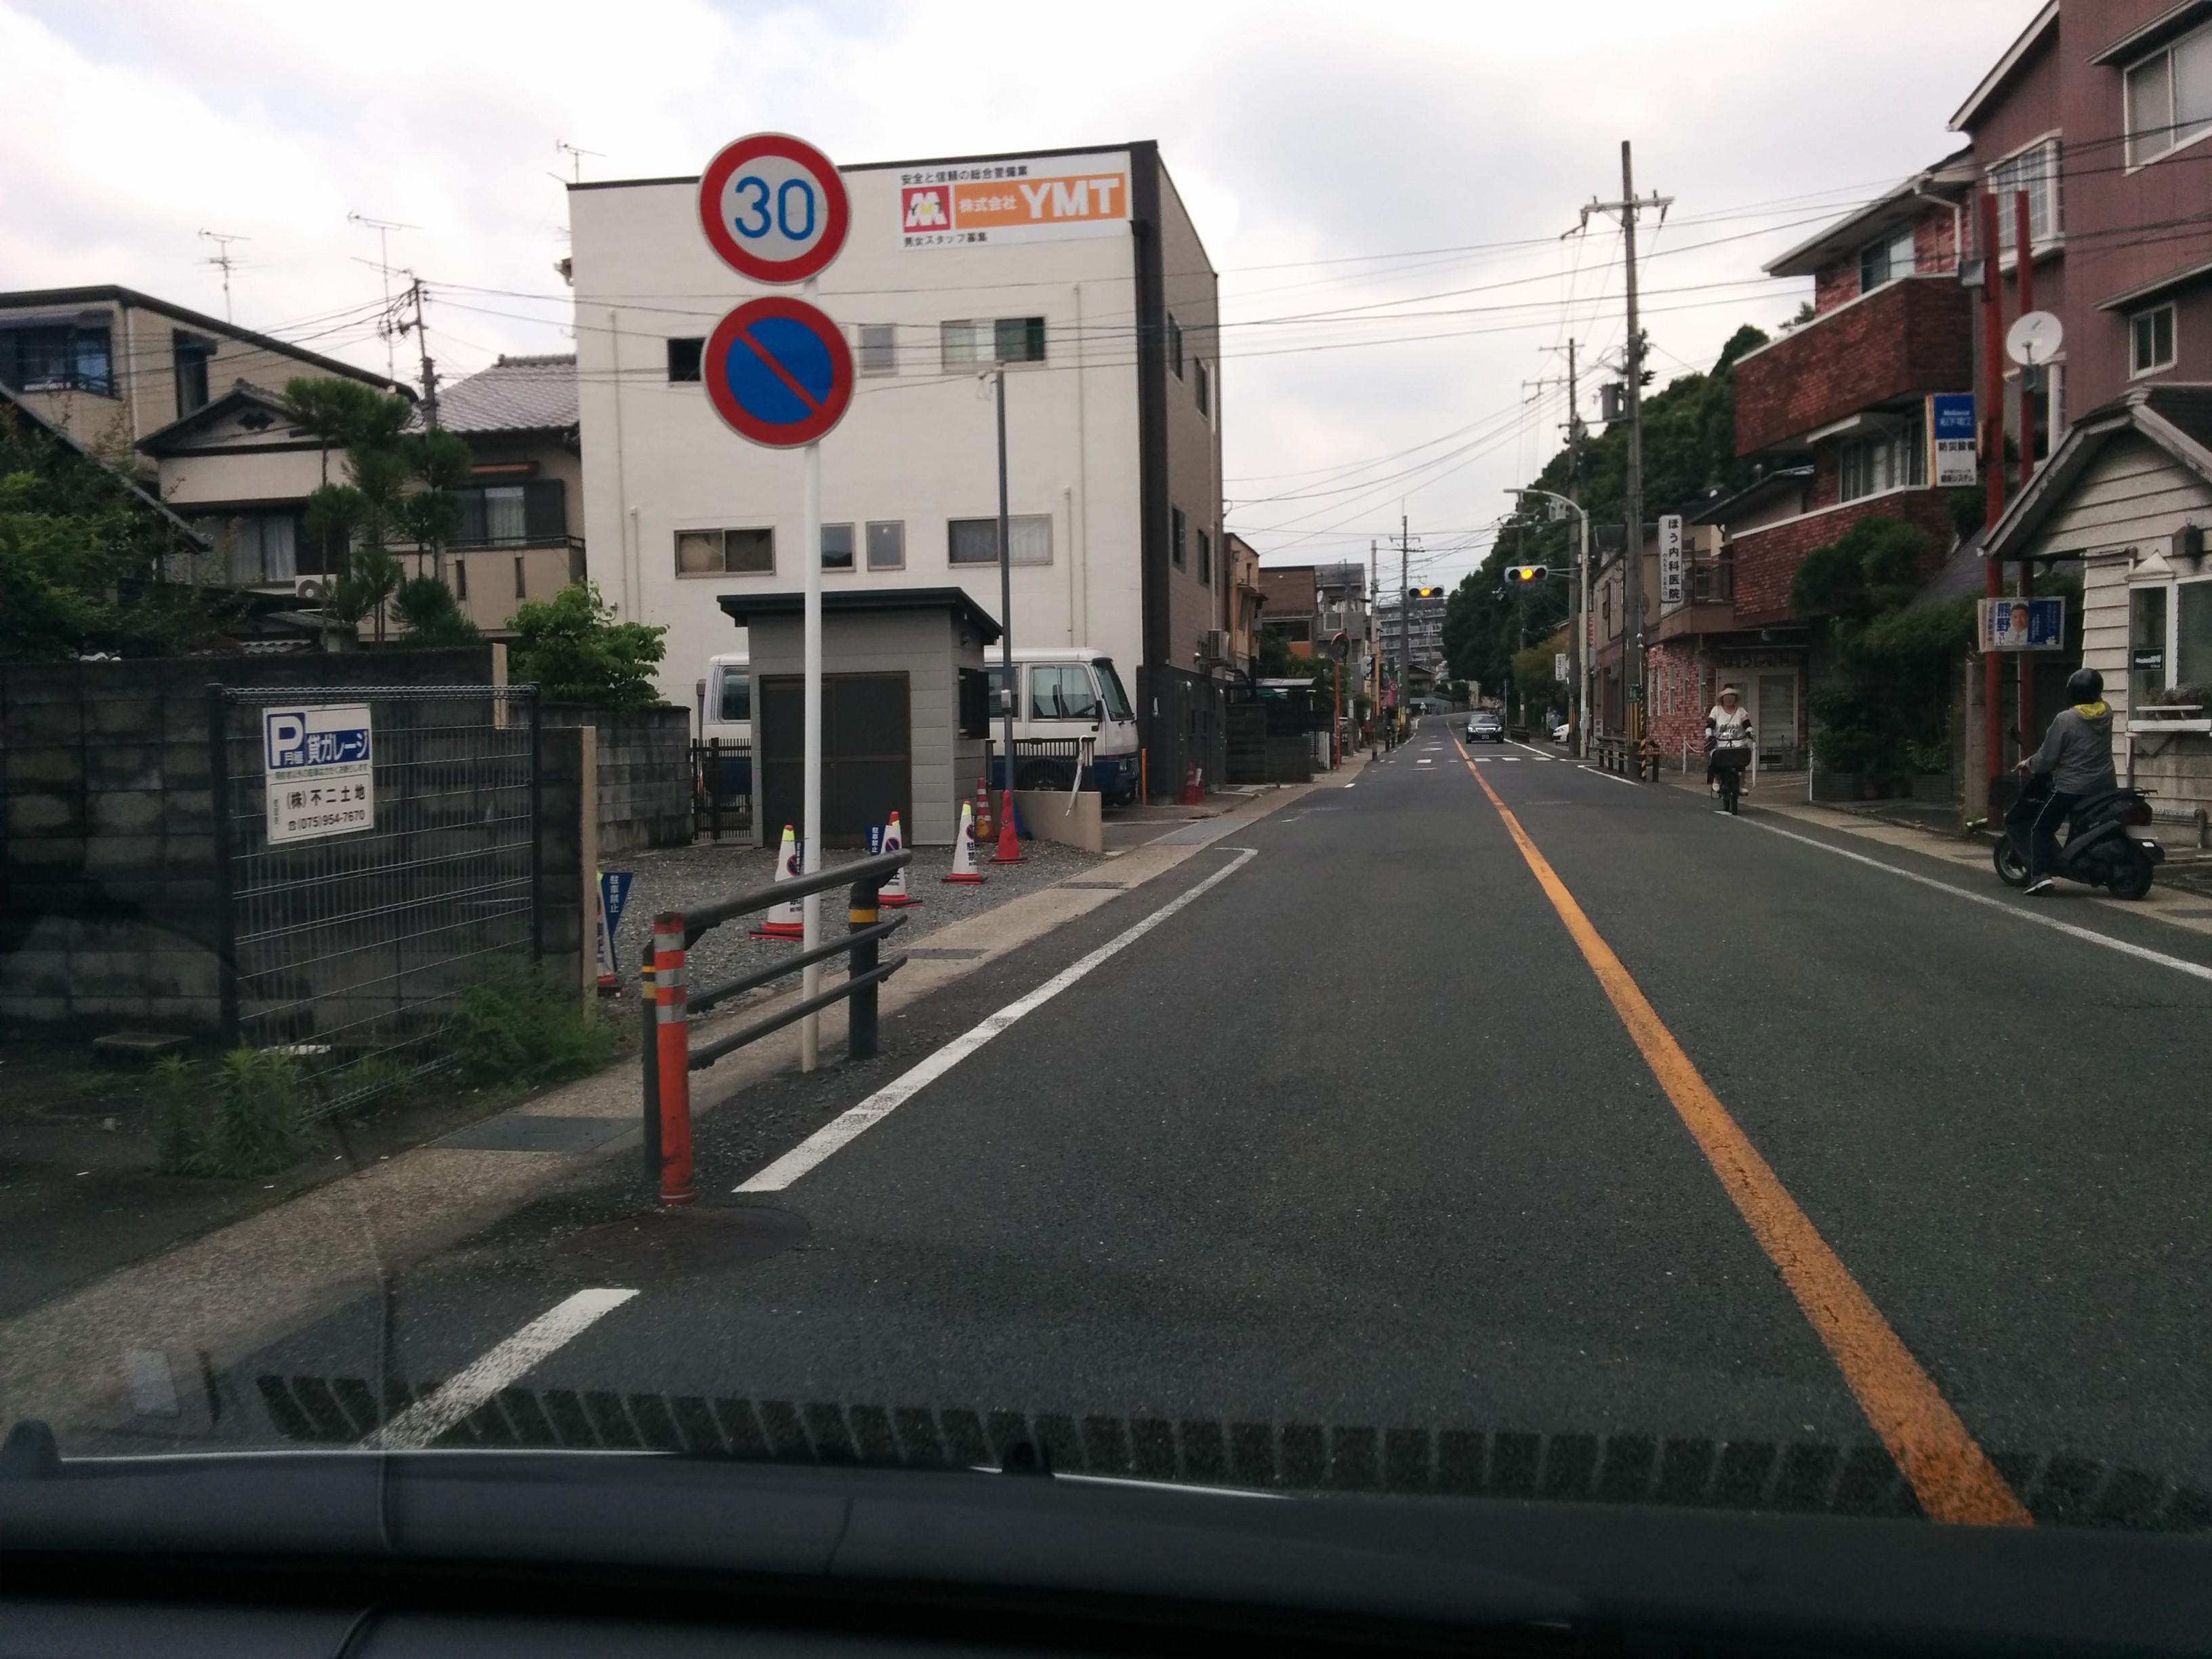vinyl banner: (881, 150, 1137, 261)
